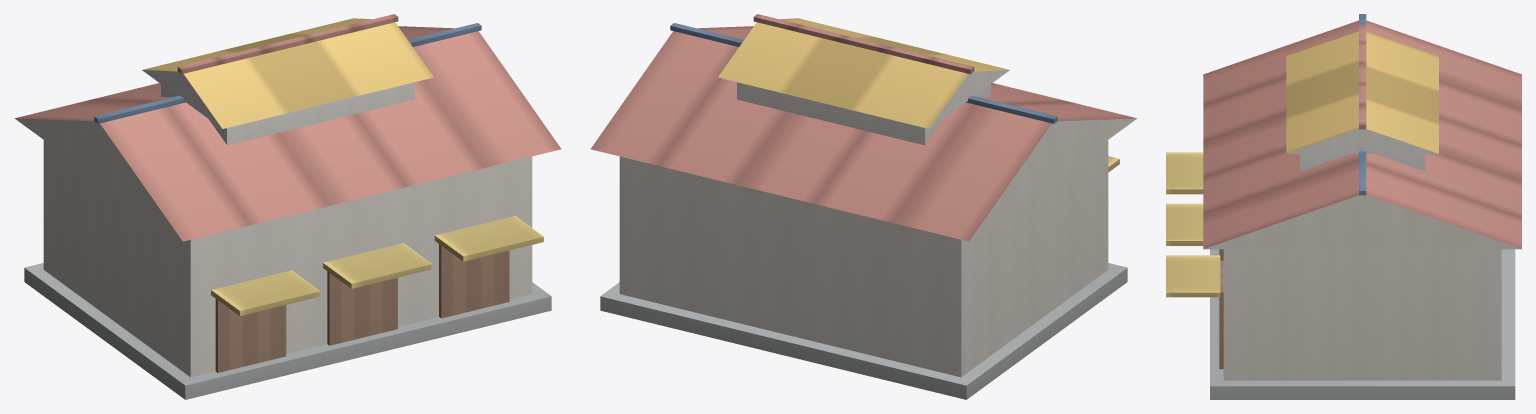
Rendered from market_hall.glb.
3 renders of one model, left to right at view 1: azimuth 30°, elevation 25°; view 2: azimuth 150°, elevation 25°; view 3: azimuth 270°, elevation 25°, orthographic. The views are drawn at different scales.
Visible parts, largest first — view 1: market_hall; view 2: market_hall; view 3: market_hall.
Part boxes in pixels (<box>): market_hall: <box>15,14,561,399</box>; market_hall: <box>590,14,1136,399</box>; market_hall: <box>1166,14,1521,399</box>.
Size of the model in its own units: 12.36 by 7.83 by 10.5.
Materials: 1 (1 with a texture image).
